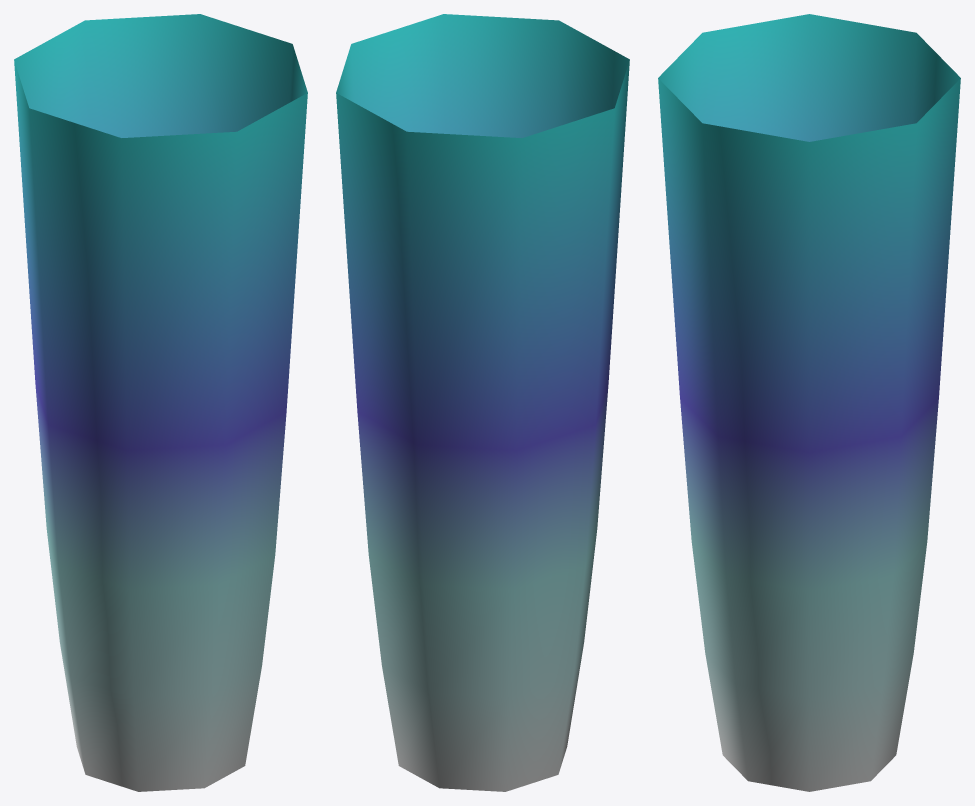
File: hotAir.fbx
The picture shows the model from 3 angles, left to right: view 1: azimuth 30°, elevation 25°; view 2: azimuth 150°, elevation 25°; view 3: azimuth 270°, elevation 25°; orthographic projection.
Visible parts, largest first — view 1: hotAir; view 2: hotAir; view 3: hotAir.
Part boxes in pixels (x1,y1,x2,y2): hotAir: (14, 14, 307, 791); hotAir: (336, 14, 629, 791); hotAir: (658, 14, 960, 791).
Size of the model in its own units: 0.8912 by 2.2 by 0.8912.
